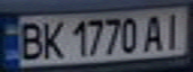0: (118, 13, 142, 55)
1: (66, 16, 87, 57)
7: (84, 16, 106, 56), (103, 15, 124, 55)
A: (139, 11, 166, 52)
B: (12, 19, 48, 61)
I: (157, 9, 187, 51)
K: (36, 17, 66, 60)
